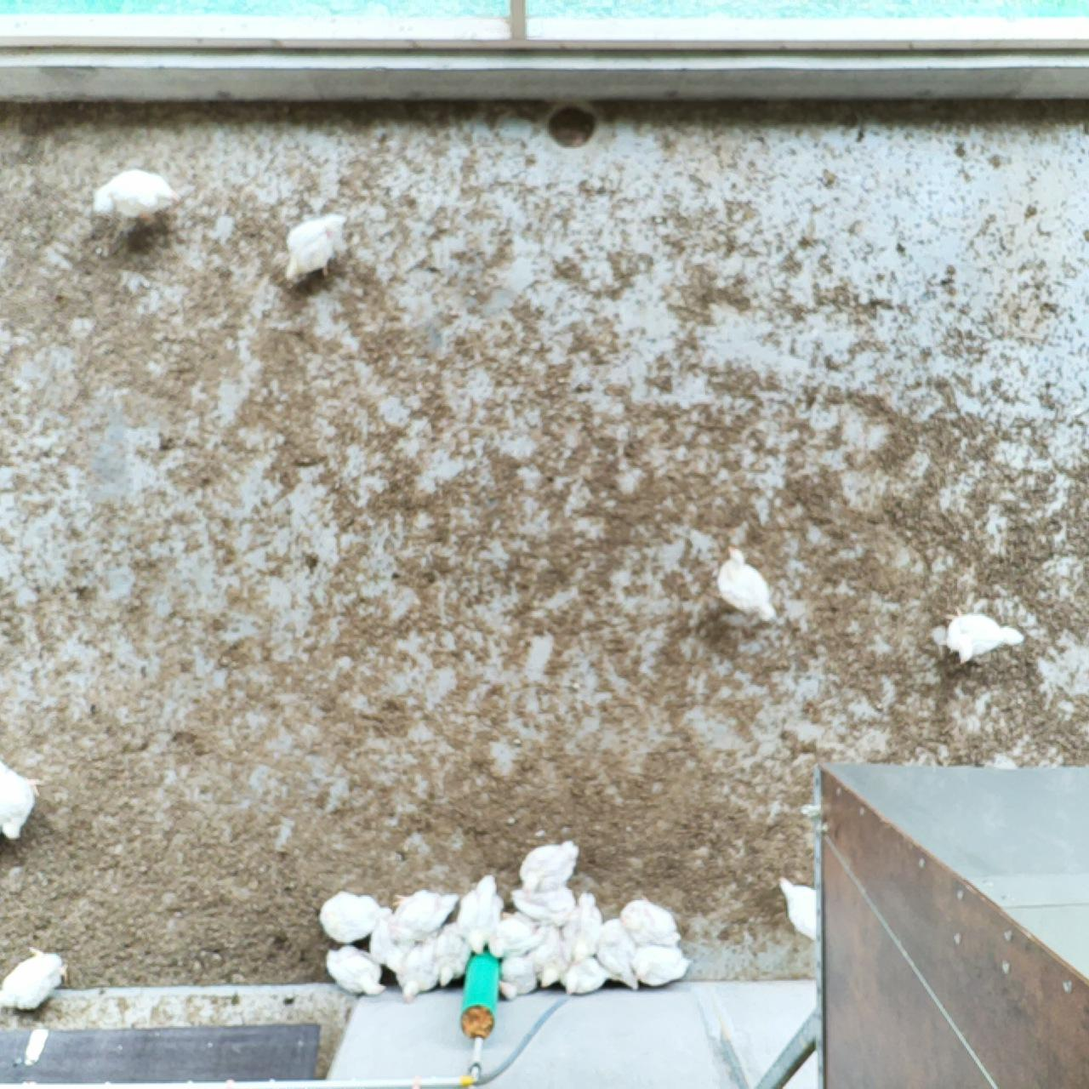chicken: (87, 164, 187, 233), (934, 600, 1031, 670), (710, 540, 783, 624), (276, 209, 353, 282), (0, 941, 73, 1017), (515, 835, 589, 903), (384, 882, 459, 947), (0, 753, 49, 850), (317, 886, 390, 947), (590, 914, 645, 994), (456, 871, 506, 959), (319, 939, 388, 1000), (614, 892, 685, 951), (395, 927, 446, 1005), (773, 867, 823, 942), (366, 900, 414, 975), (428, 915, 474, 988), (627, 940, 694, 990), (485, 909, 550, 960), (562, 891, 603, 968), (526, 920, 569, 991), (556, 954, 614, 1001), (492, 954, 537, 1005)
